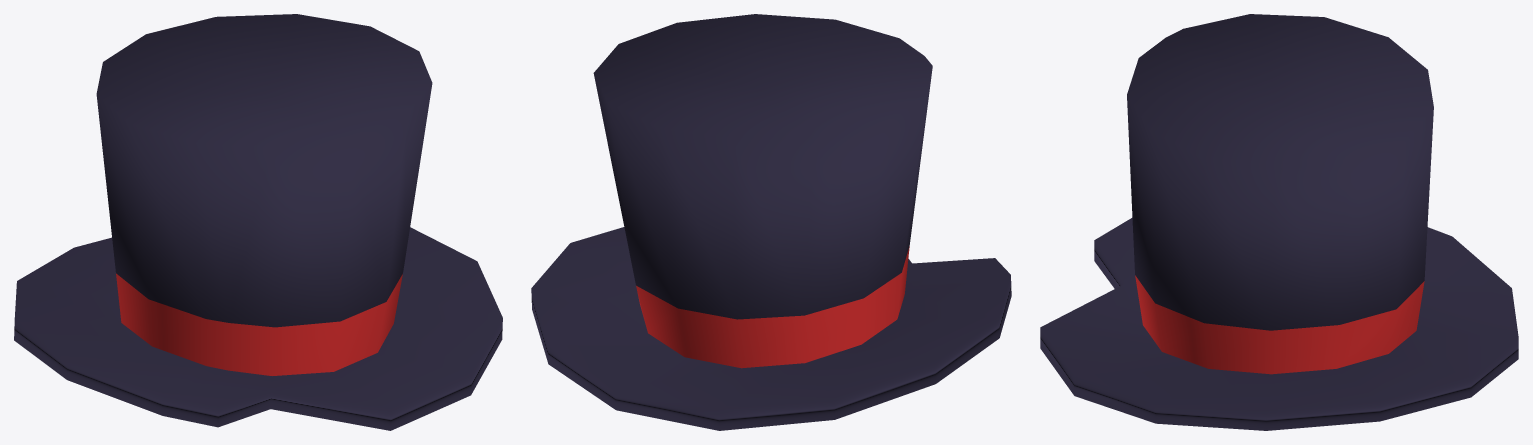
Rendered from Hat_magician.fbx.
The picture shows the model from 3 angles, left to right: view 1: azimuth 30°, elevation 25°; view 2: azimuth 150°, elevation 25°; view 3: azimuth 270°, elevation 25°; orthographic projection. The views are drawn at different scales.
Parts seen in each view (by area): view 1: Hat_maigician; view 2: Hat_maigician; view 3: Hat_maigician.
Boxes of the visible parts, bbox=[...] form: Hat_maigician: bbox=[14, 14, 502, 430]; Hat_maigician: bbox=[531, 14, 1011, 430]; Hat_maigician: bbox=[1040, 14, 1518, 430].
Bounding box in the file's own units: 47.9 × 28.86 × 47.84.
